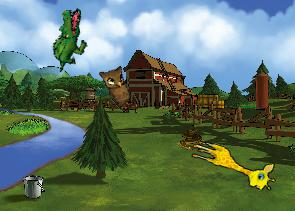crocodile: (45, 6, 92, 72)
giraffe: (185, 137, 280, 194)
owl: (94, 59, 145, 113)
